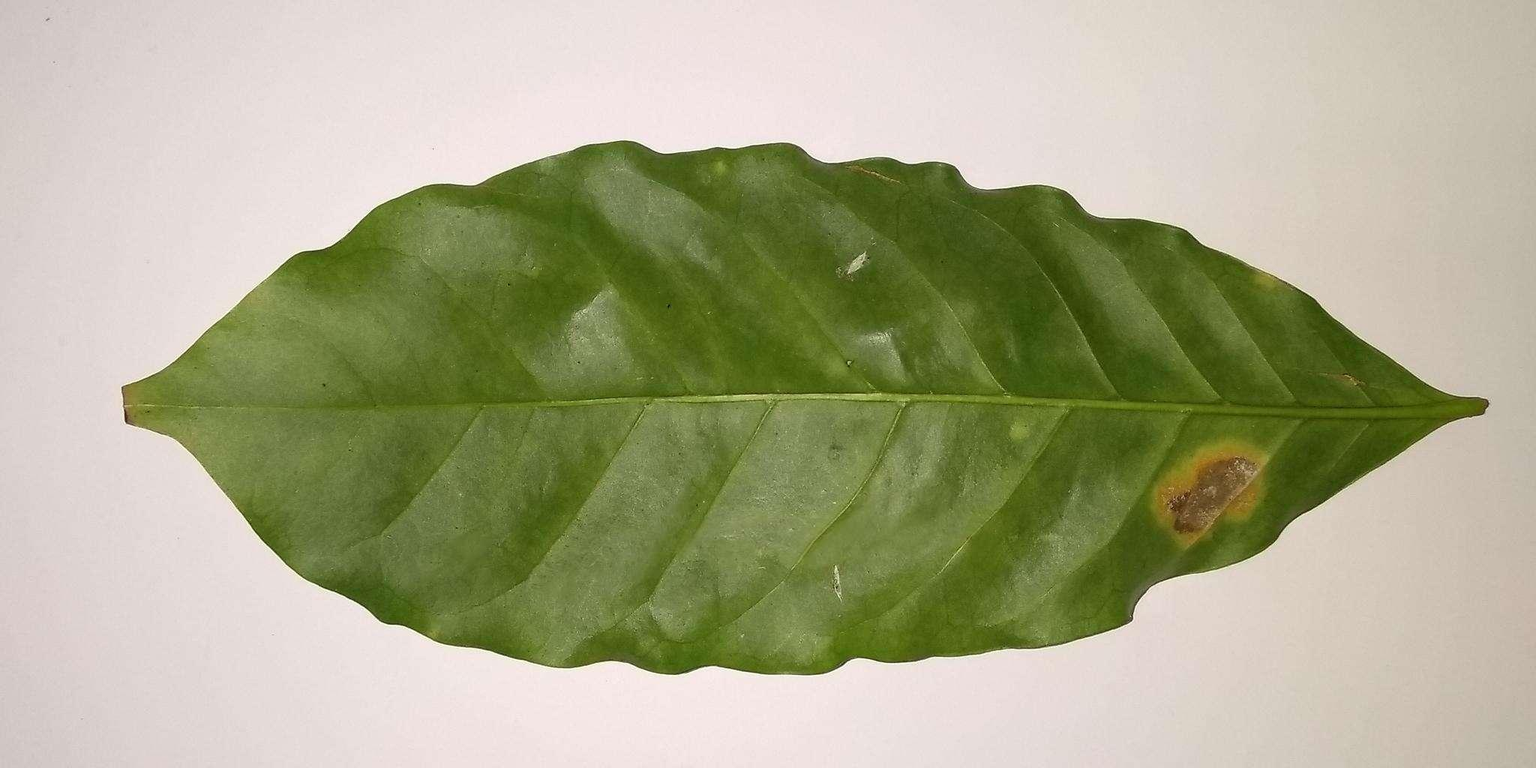Rust: (1137, 417, 1280, 568)
